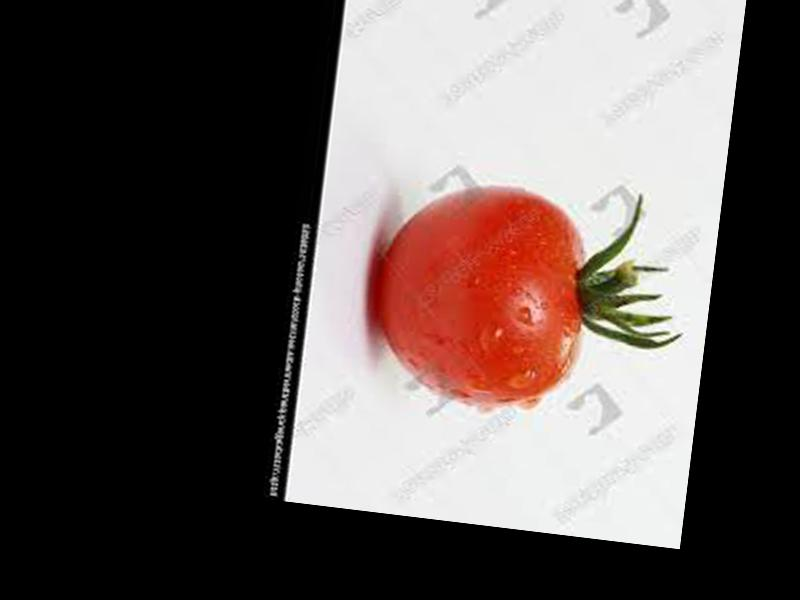Tomato: (365, 173, 593, 415)
